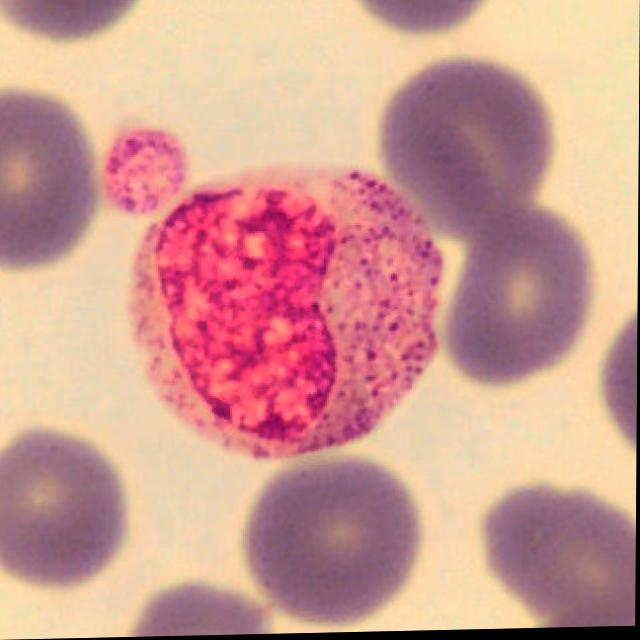Monocito: (127, 165, 443, 463)
